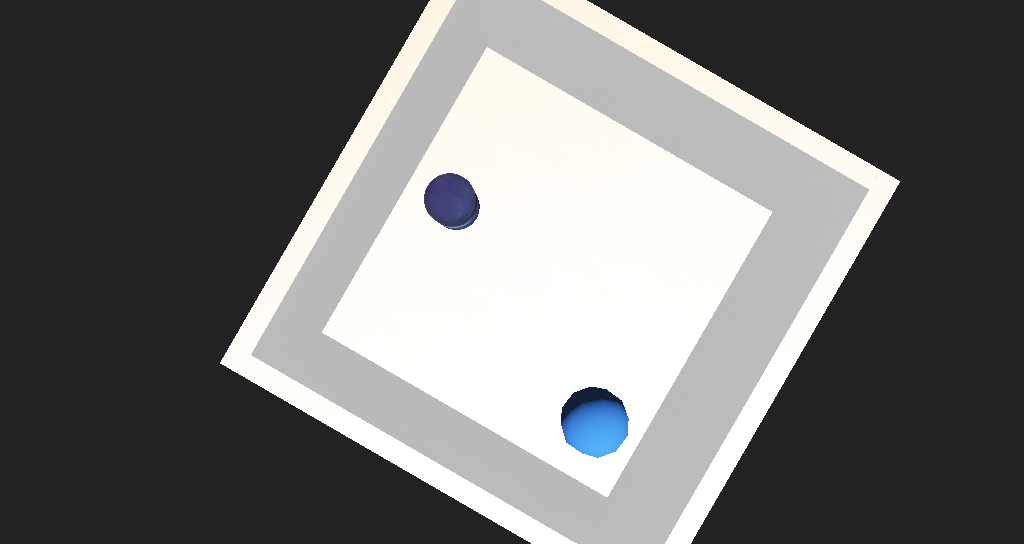cone: (495, 172, 542, 210)
sphere: (381, 322, 441, 365)
